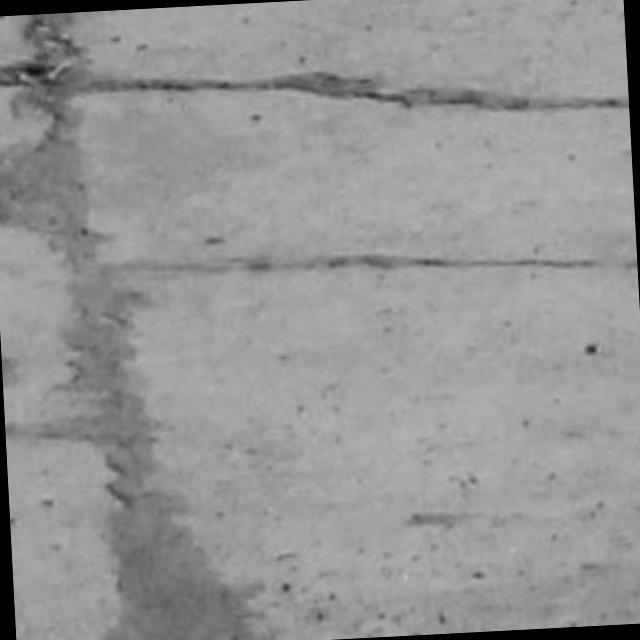crack: (0, 13, 257, 639), (0, 51, 628, 112), (80, 72, 628, 112), (118, 253, 637, 275)
